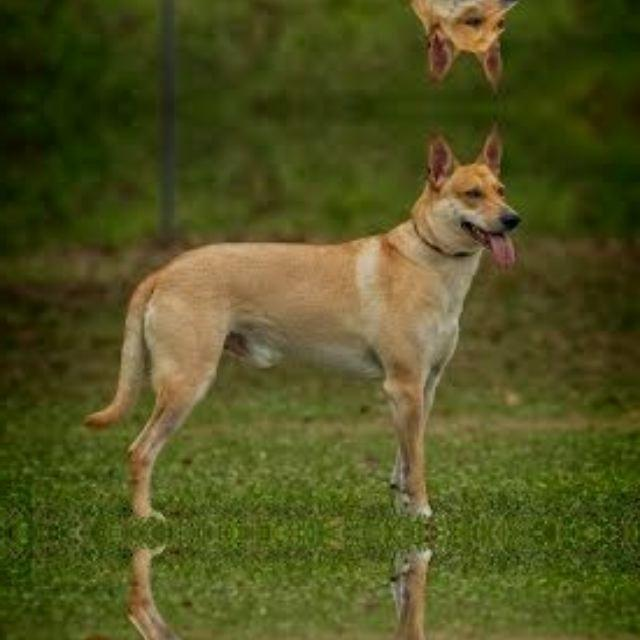dog: (76, 117, 540, 533), (76, 533, 541, 640), (76, 0, 541, 97)
